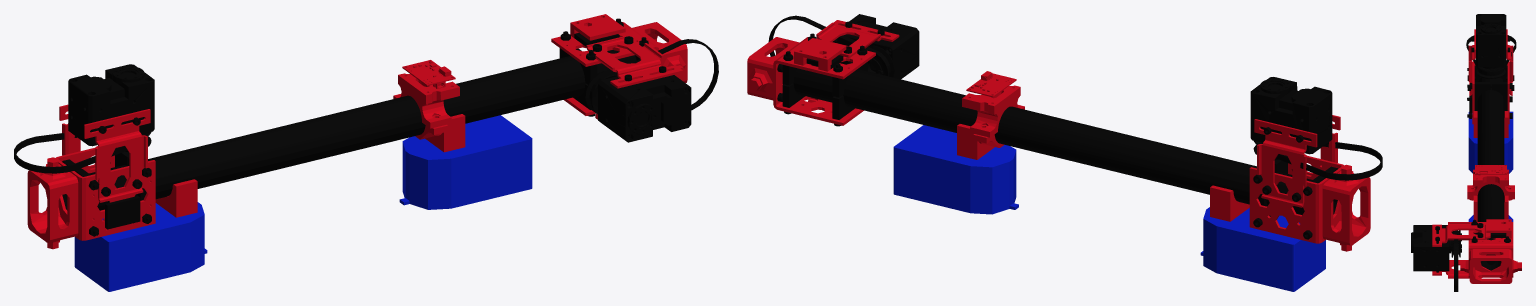
The model's file is ducted_fan_baselink.dae.
The picture shows the model from 3 angles, left to right: view 1: azimuth 30°, elevation 25°; view 2: azimuth 150°, elevation 25°; view 3: azimuth 270°, elevation 25°; orthographic projection. The views are drawn at different scales.
Parts seen in each view (by area): view 1: Ducted_Fan_Baselink_Balck, Ducted_Fan_Baselink_Red, Ducted_Fan_Baselink_Blue; view 2: Ducted_Fan_Baselink_Balck, Ducted_Fan_Baselink_Red, Ducted_Fan_Baselink_Blue; view 3: Ducted_Fan_Baselink_Balck, Ducted_Fan_Baselink_Red, Ducted_Fan_Baselink_Blue.
Boxes of the visible parts, x1,y1,x2,y2 form: Ducted_Fan_Baselink_Balck: [14, 18, 718, 236]; Ducted_Fan_Baselink_Red: [27, 14, 687, 249]; Ducted_Fan_Baselink_Blue: [74, 115, 532, 291]; Ducted_Fan_Baselink_Balck: [768, 14, 1382, 239]; Ducted_Fan_Baselink_Red: [747, 20, 1370, 251]; Ducted_Fan_Baselink_Blue: [893, 125, 1325, 291]; Ducted_Fan_Baselink_Balck: [1411, 14, 1516, 291]; Ducted_Fan_Baselink_Red: [1432, 29, 1521, 283]; Ducted_Fan_Baselink_Blue: [1468, 111, 1513, 221].
Bounding box in the file's own units: 0.4711 × 0.1043 × 0.1328.
